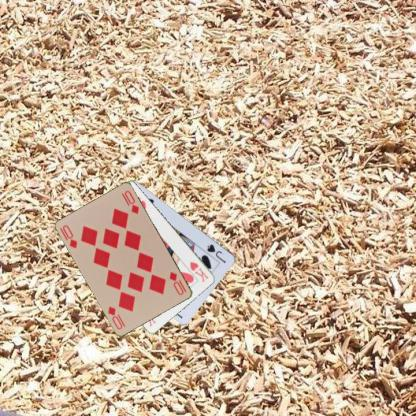10d: (57, 222, 79, 250), (167, 270, 185, 297)
Js: (204, 242, 228, 264)
Kh: (187, 259, 210, 284)
